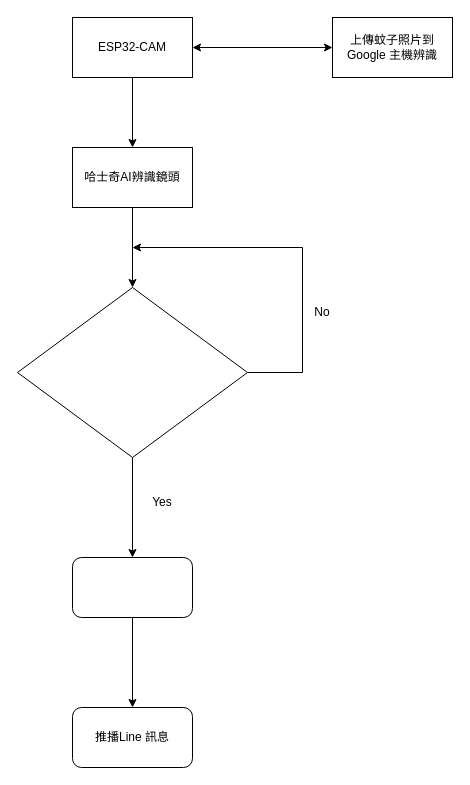
Some shapes in this 470 by 785 pixel diagram are drawn without their labels. The centre of each missing label's shape, as x and y in pixels:
"上傳記錄到Google Excel 表中" goes at pixel 132 587.
"確認蚊子物體偵測 初步判斷是否為埃及斑蚊或是白線斑蚊" goes at pixel 132 372.
